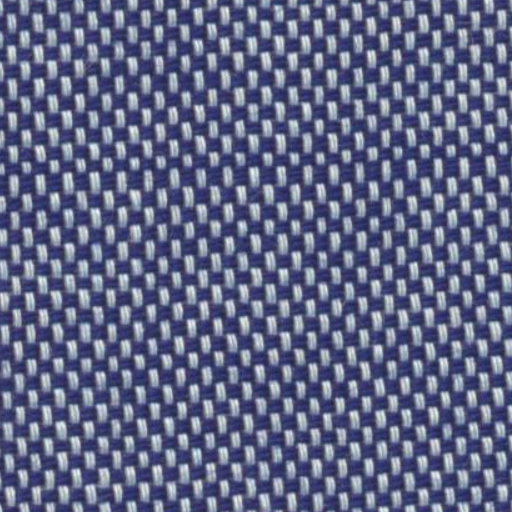TuoSha: (34, 124, 496, 230)
